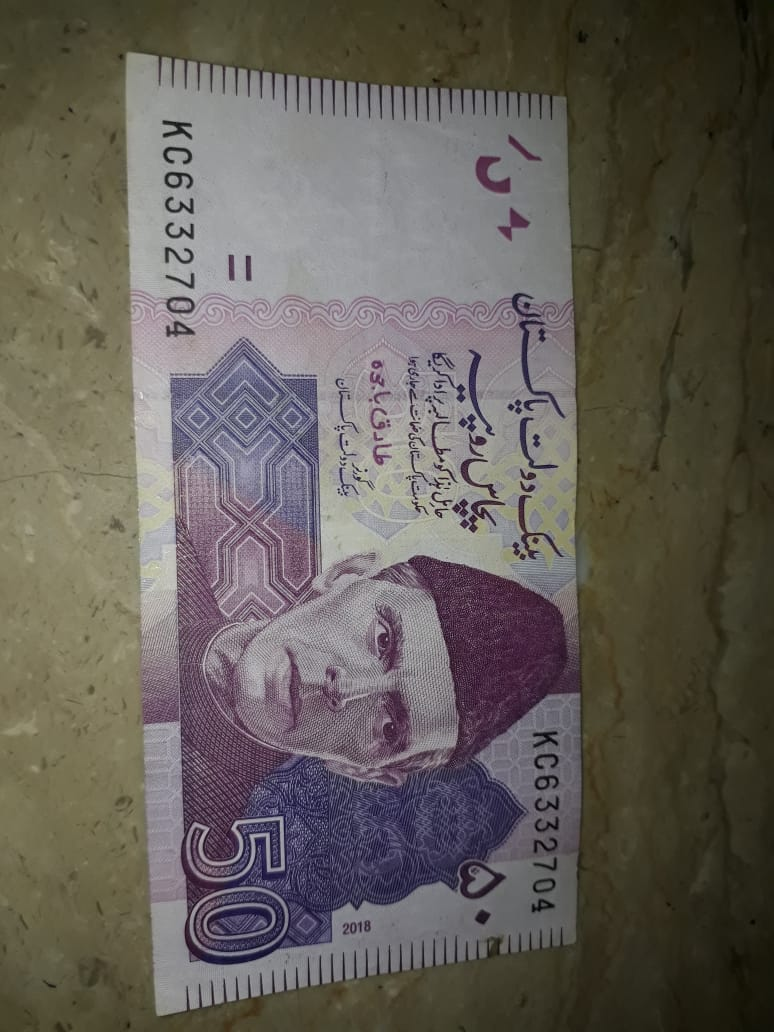50 rupee: (97, 42, 637, 1028)
